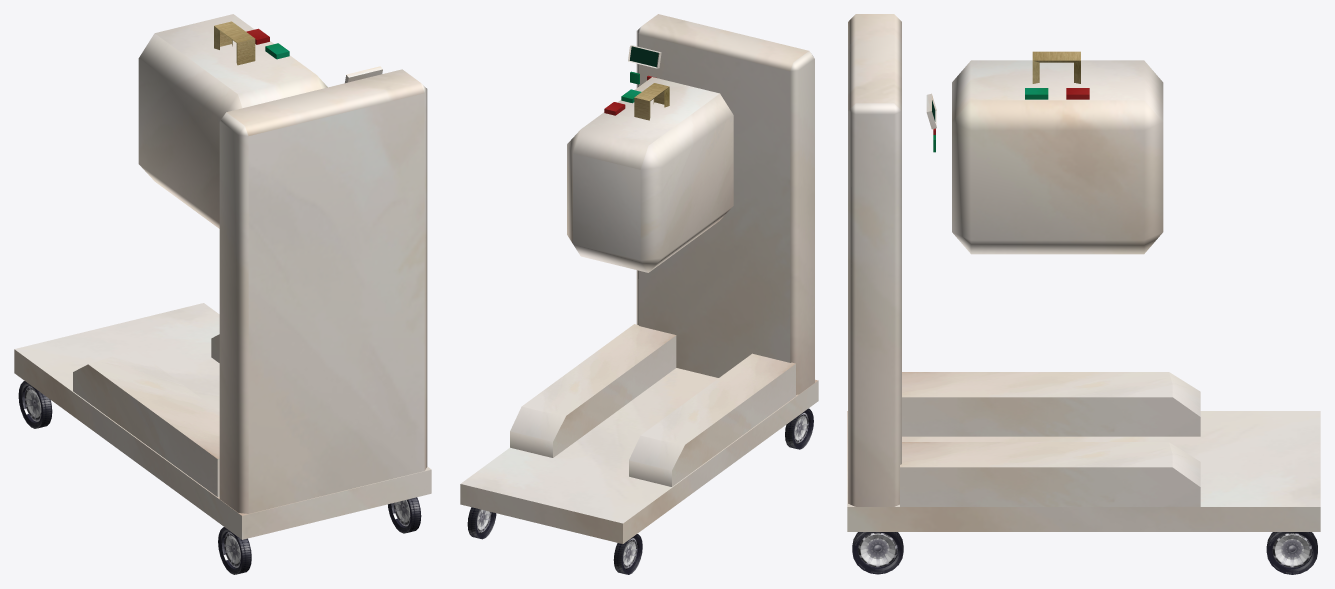
The model's file is Batidora.obj.
The picture shows the model from 3 angles, left to right: view 1: azimuth 30°, elevation 25°; view 2: azimuth 150°, elevation 25°; view 3: azimuth 270°, elevation 25°; orthographic projection. The views are drawn at different scales.
Parts seen in each view (by area): view 1: Batidora; view 2: Batidora; view 3: Batidora.
Part boxes in pixels (box(x1,y1,x2,y2)): Batidora: box(14, 14, 431, 574); Batidora: box(460, 14, 818, 574); Batidora: box(847, 14, 1320, 574).
Size of the model in its own units: 3.34 by 7.69 by 6.96.
Materials: 3 (3 with a texture image).
